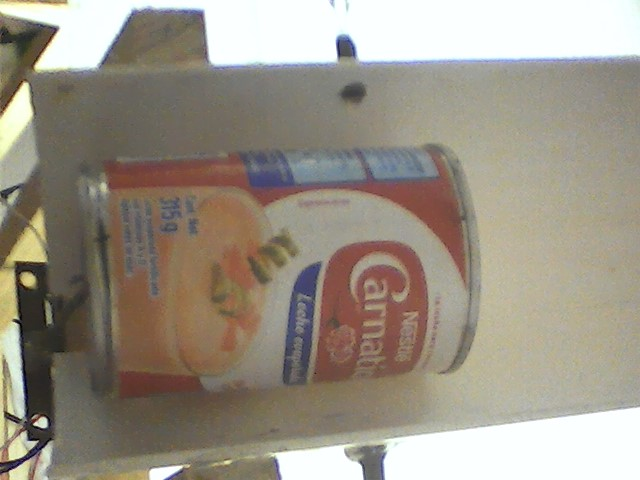lata: (65, 138, 486, 404)
